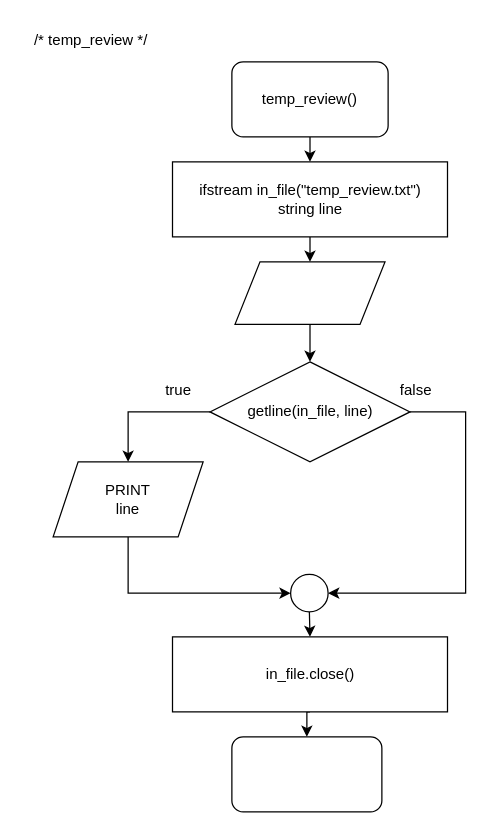
Image size: 498x834. Some labels were removed from this diagram. The shapes that lost their labels are listed below. From the top down, each one's centre as x and y in pixels, then its label:
(309,292): PRINT "Preview"
(306,774): RETURN
